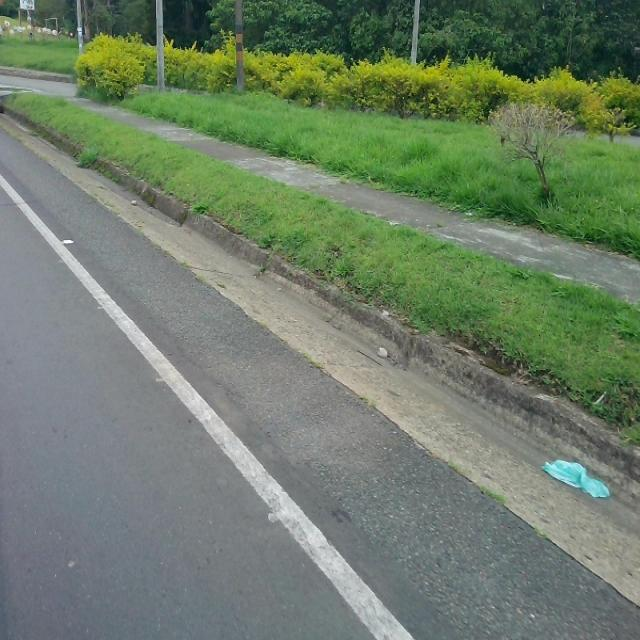DITCH: (1, 97, 638, 636), (1, 148, 638, 638)
